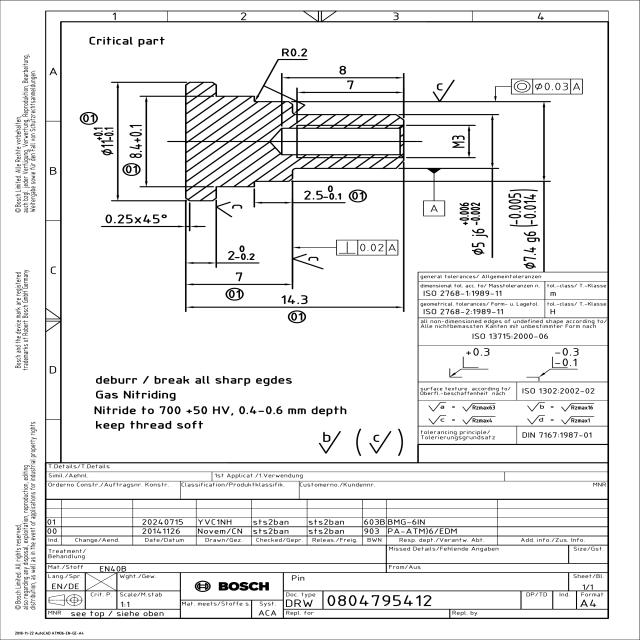dimension: (506, 187, 542, 270), (458, 201, 489, 256), (511, 78, 586, 95), (104, 213, 169, 225), (93, 125, 116, 158), (302, 184, 344, 201), (128, 124, 144, 160), (226, 244, 256, 261), (278, 46, 310, 58), (279, 294, 310, 305), (451, 134, 466, 149), (338, 64, 348, 76), (346, 79, 356, 90), (235, 271, 244, 282)
